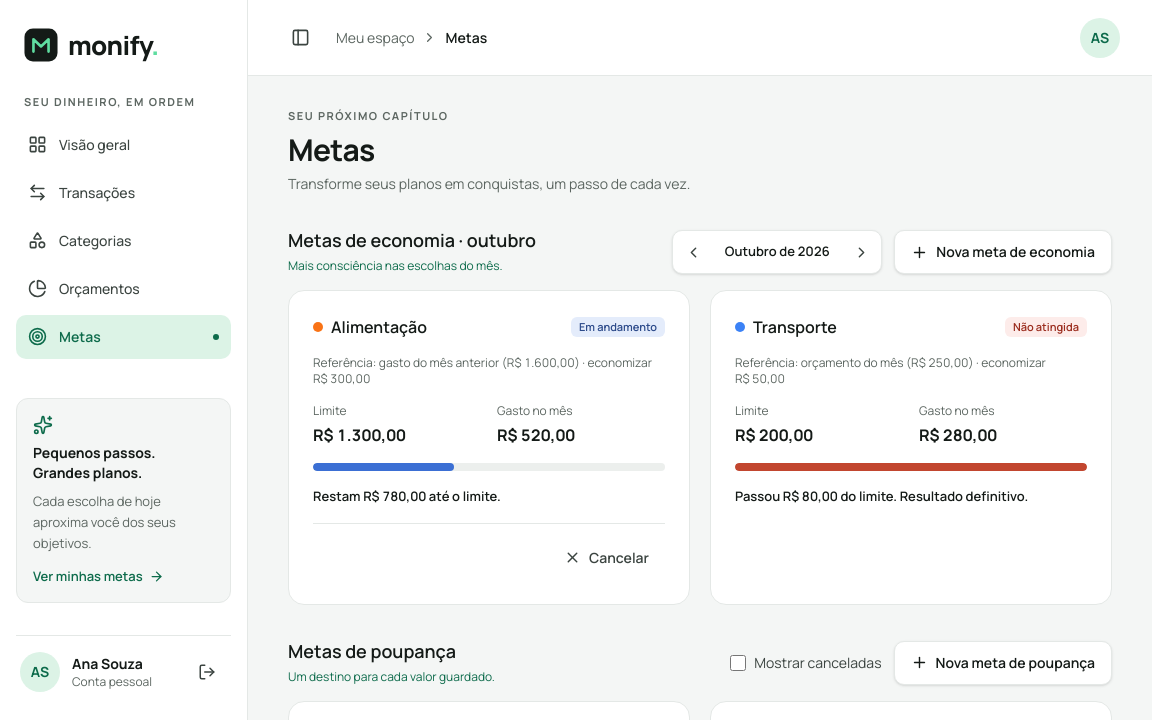
Test case: Metas › metas de economia › deve mostrar a mensagem da API quando a referência estiver indisponível
This screenshot has width=1152, height=720.
Step 1. Click the button "Nova meta de economia" → [1003, 252], box [894,230,1112,274]
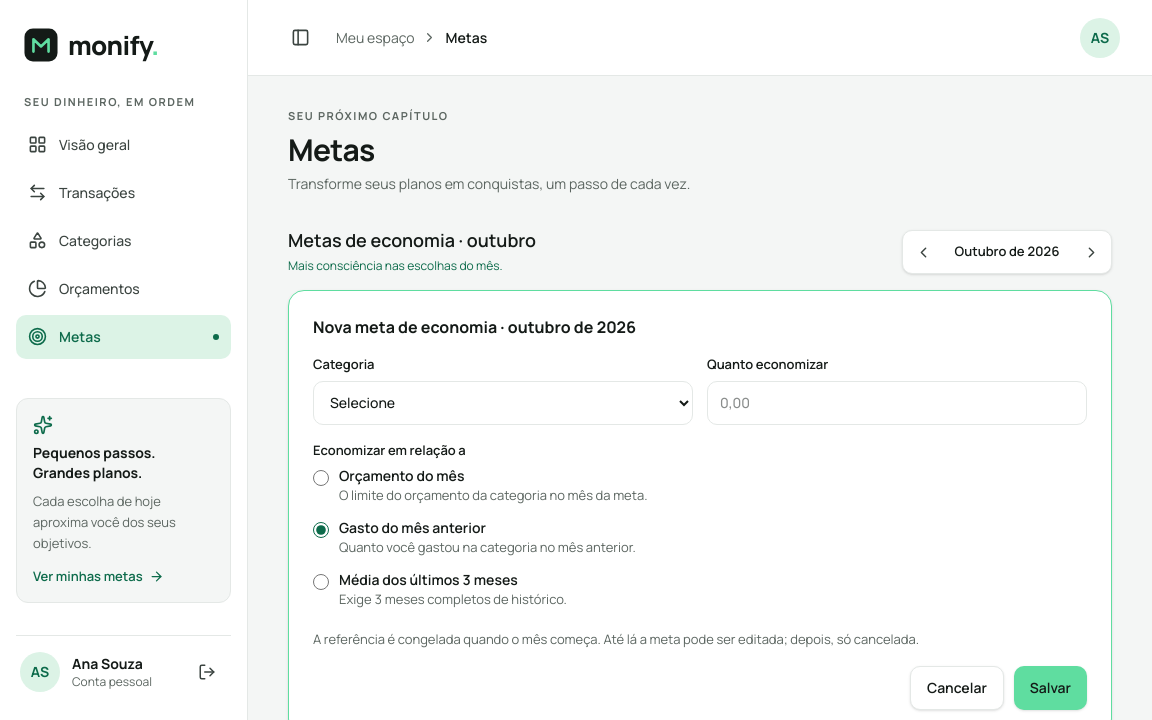
Step 2. Select "Saúde" in the dropdown labelled "Categoria" → [503, 402], box [313,380,693,424]
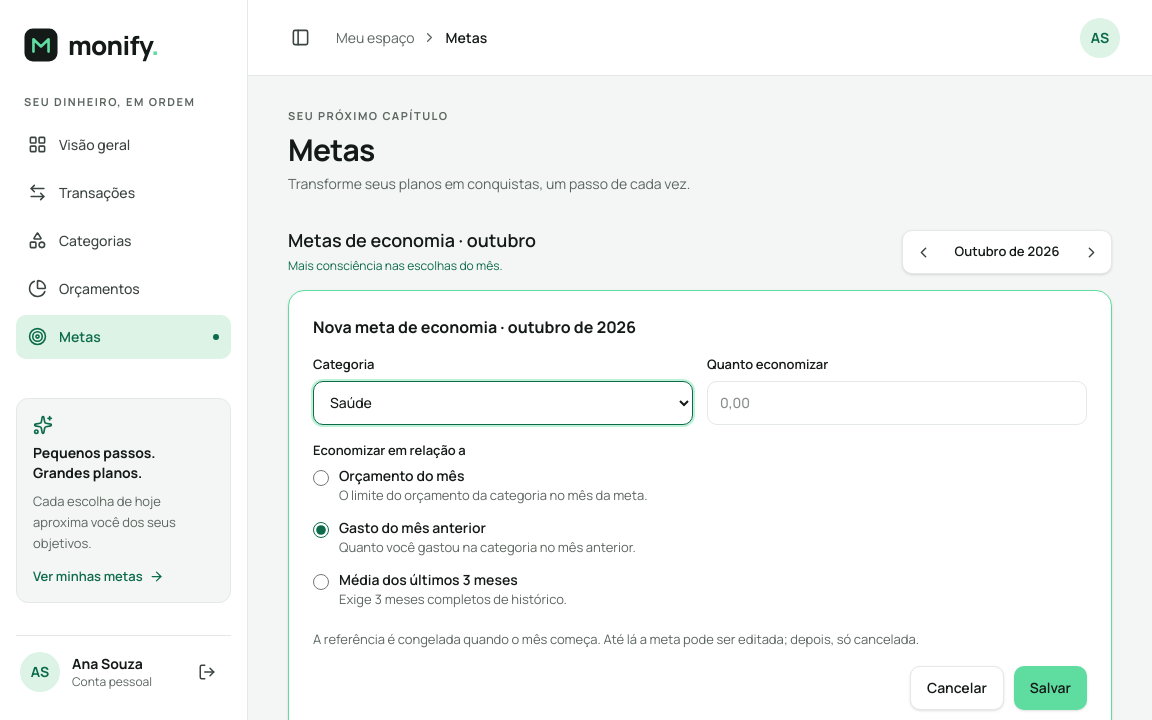
Step 3. Type "50" into the field labelled "Quanto economizar" → [897, 402], box [707,380,1087,424]
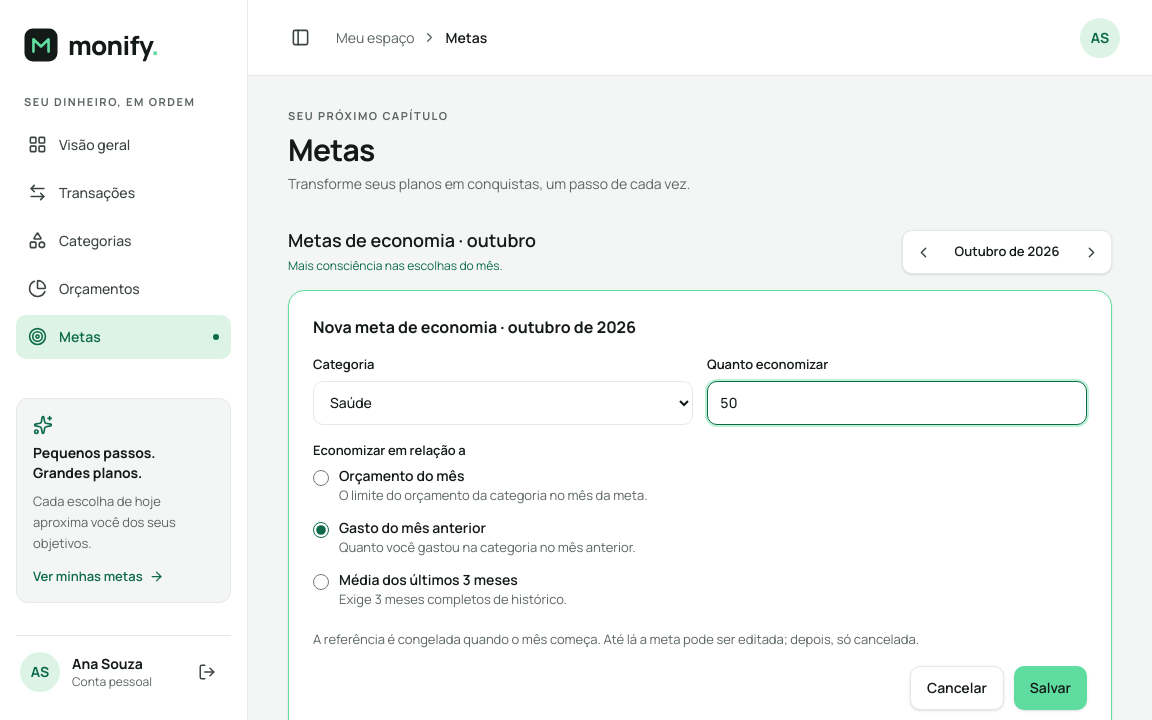
Step 4. Click the button "Salvar" → [1050, 688], box [1014,666,1087,710]
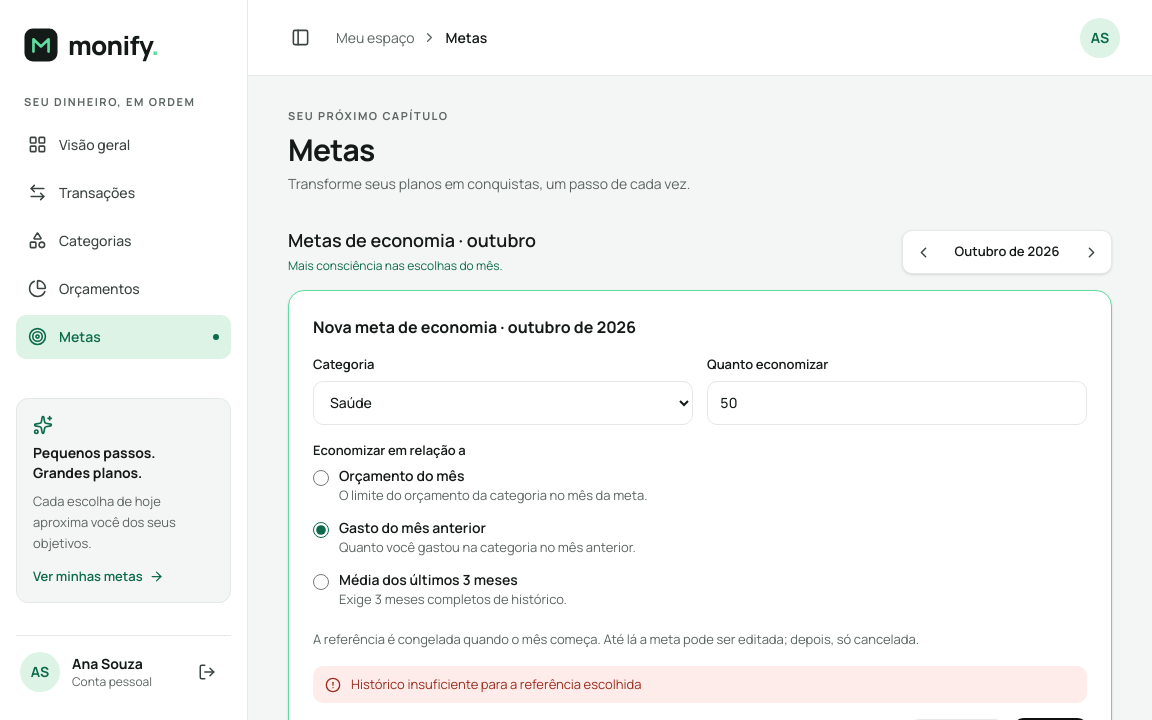
Expected: the message reads "Histórico insuficiente para a referência escolhida", [351,674,641,692]
